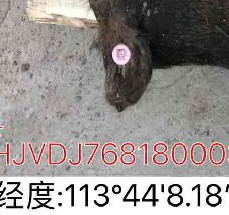text: (100, 33, 150, 80)
